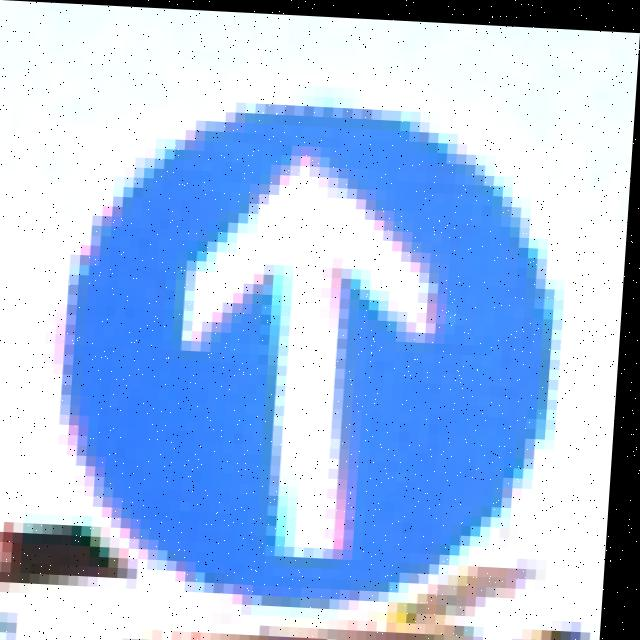compulsory_ahead: (60, 75, 587, 598)
